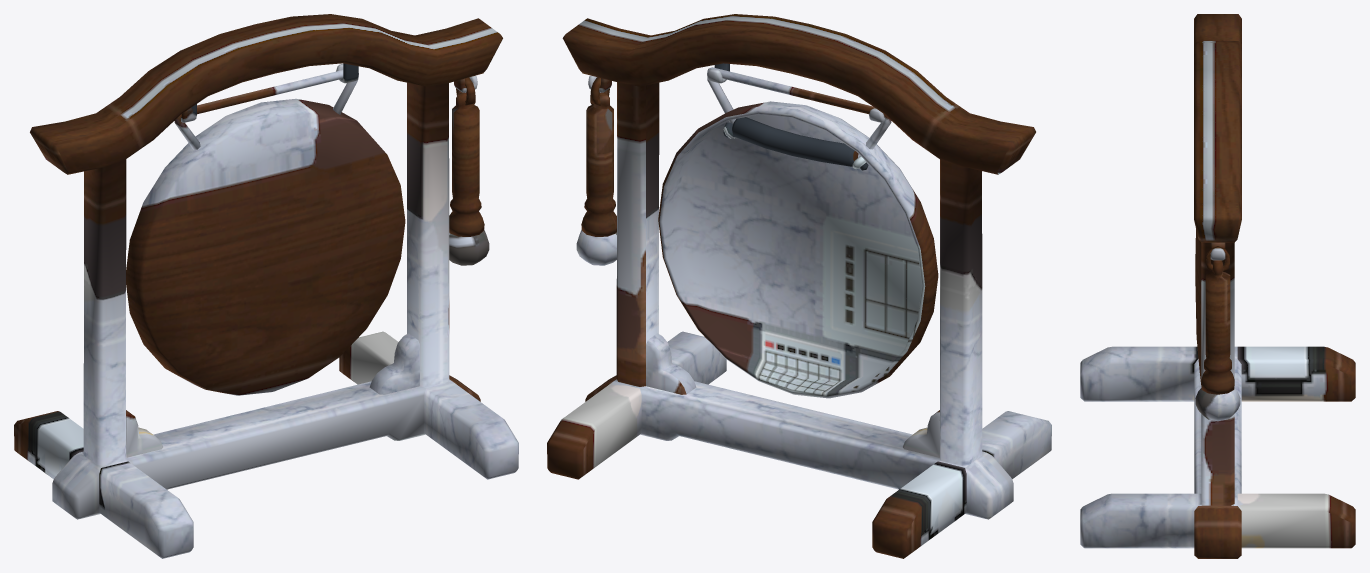
Rendered from gong.fbx.
The picture shows the model from 3 angles, left to right: view 1: azimuth 30°, elevation 25°; view 2: azimuth 150°, elevation 25°; view 3: azimuth 270°, elevation 25°; orthographic projection. The views are drawn at different scales.
Parts seen in each view (by area): view 1: Gong; view 2: Gong; view 3: Gong.
Part boxes in pixels (bbox=[...]): Gong: bbox=[14, 14, 518, 558]; Gong: bbox=[547, 14, 1051, 558]; Gong: bbox=[1080, 14, 1355, 558].
Size of the model in its own units: 433 by 395 by 247.
